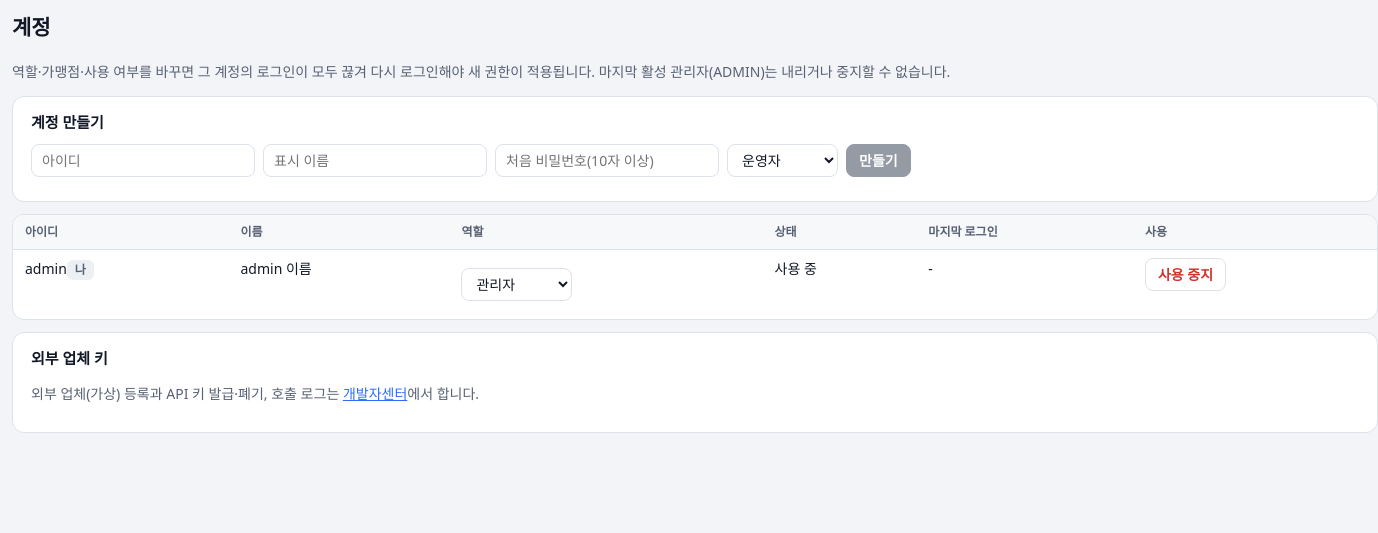
Test case: 계정 화면 (ADMIN, 보강 5) › 만들기 409 DUPLICATE는 아이디가 겹쳤다고(대소문자 구분 없음) 알리고, 실패하면 입력(비밀번호 포함)을 지우지 않는다
Type "Admin" into the field named "새 아이디" at (143, 160), box 31,144 -> 255,177
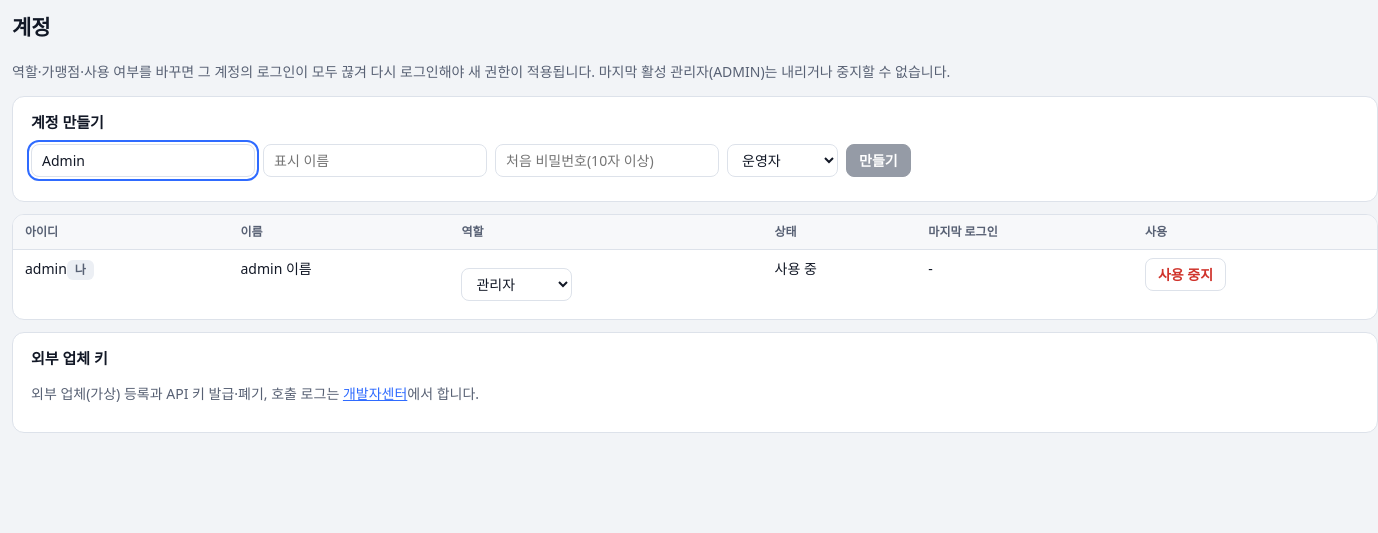
Type "겹침" into the field labelled "표시 이름" at (375, 160), box 263,144 -> 487,177
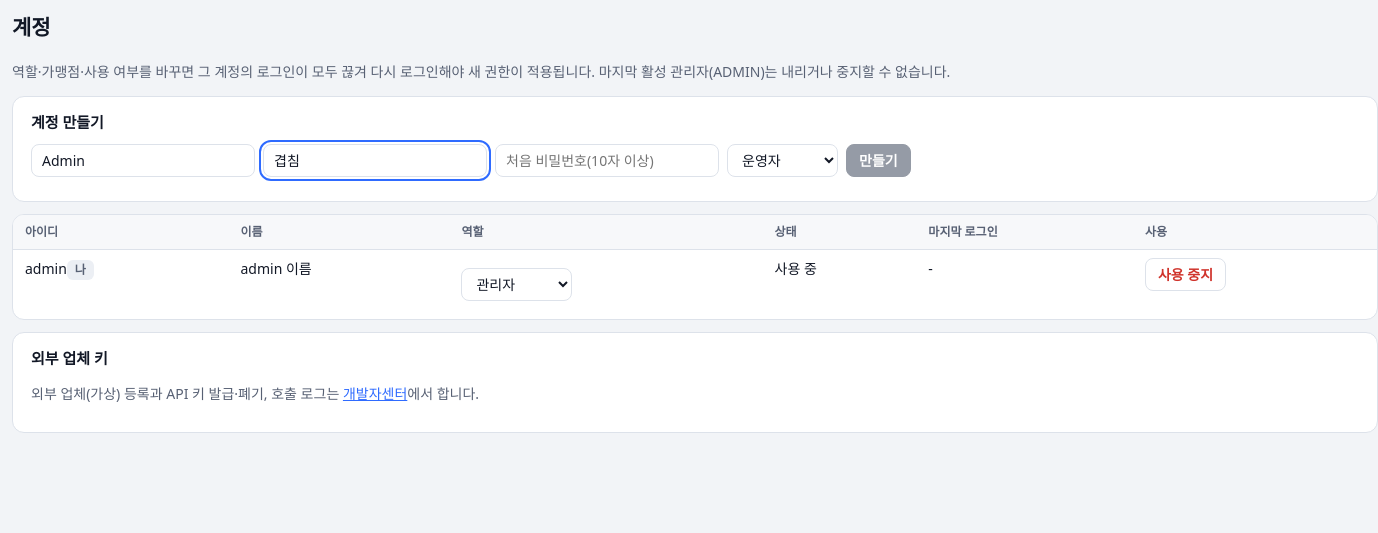
Type "demo-pass-0001" into the password field labelled "처음 비밀번호" at (607, 160), box 495,144 -> 719,177
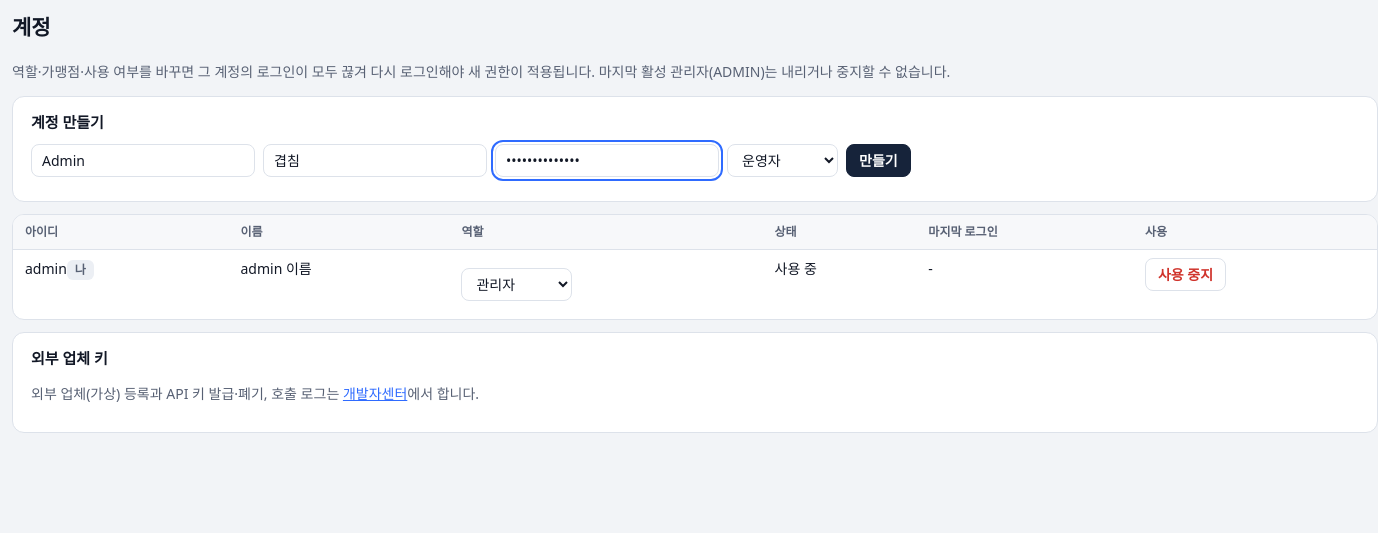
Click the button "만들기" at (878, 160), box 846,144 -> 911,177
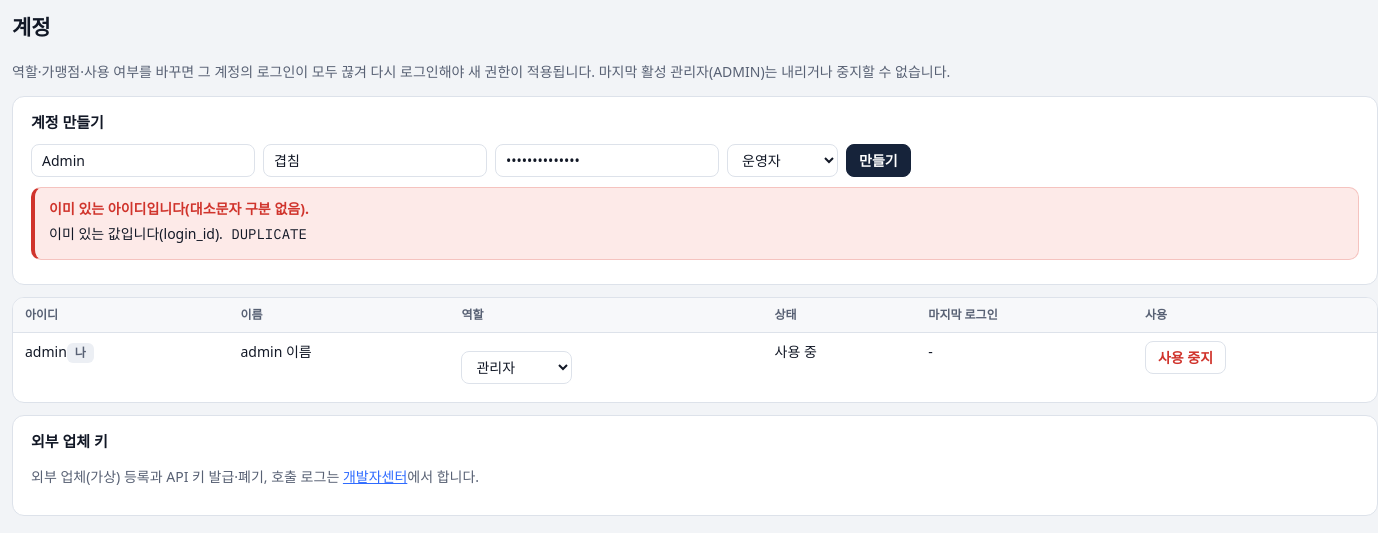
Check: the message shows "이미 있는 아이디입니다(대소문자 구분 없음)", box 49,199 -> 309,218
